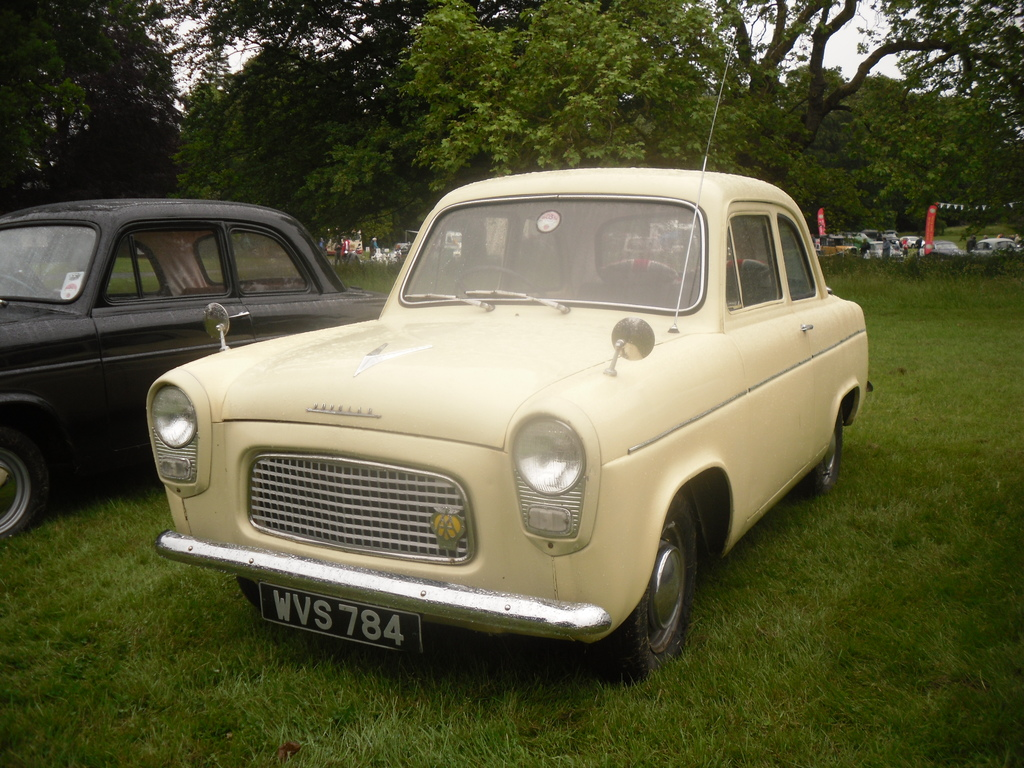Car: (134, 161, 876, 682), (0, 198, 393, 547), (970, 235, 1023, 254), (624, 234, 664, 256), (817, 234, 858, 254), (327, 227, 359, 252), (868, 239, 900, 261), (925, 240, 962, 256), (442, 229, 460, 248), (900, 235, 920, 245), (880, 229, 897, 239), (863, 229, 876, 238)
